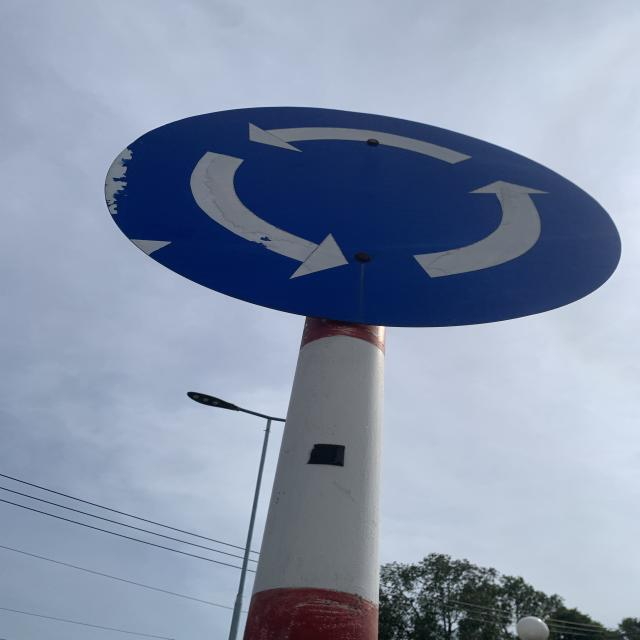Xe_Bus: (105, 104, 618, 327)
